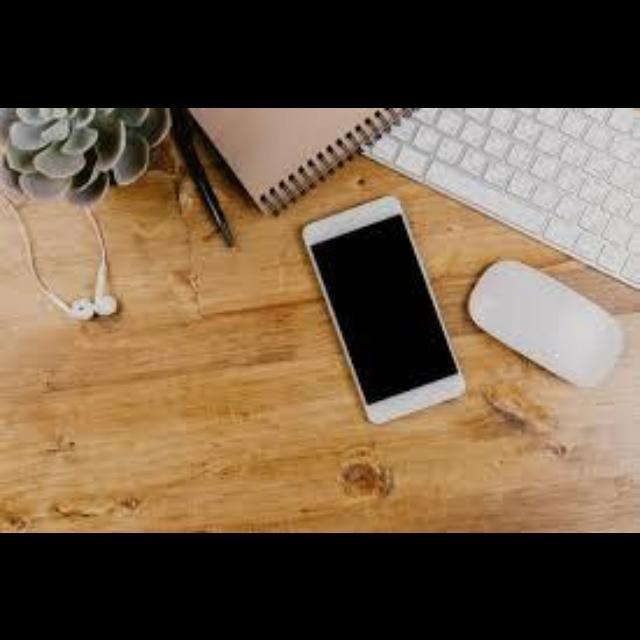Phone: (302, 192, 466, 426)
